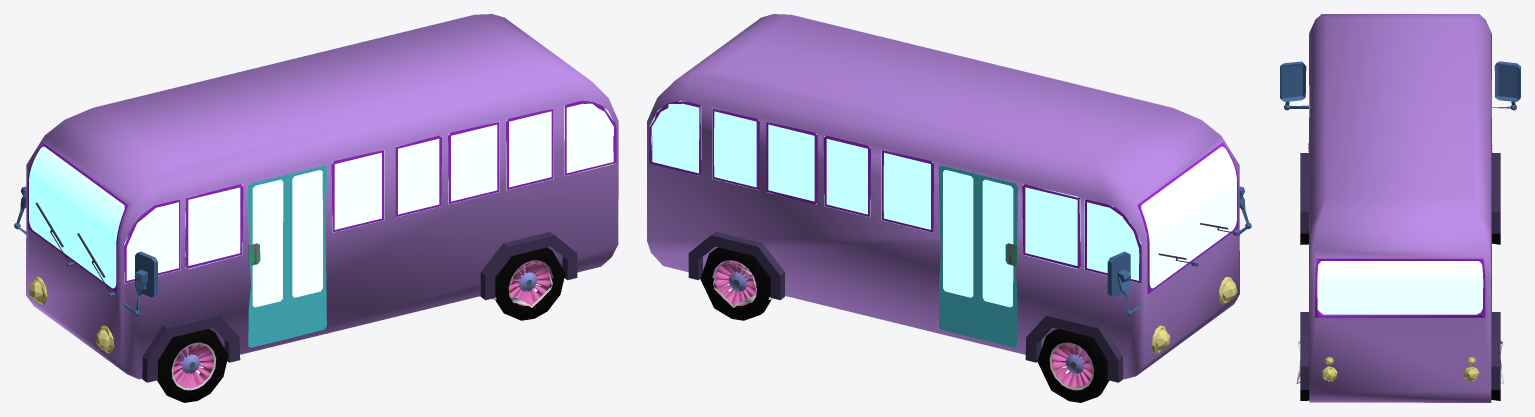
The model's file is Bus.fbx.
3 renders of one model, left to right at view 1: azimuth 30°, elevation 25°; view 2: azimuth 150°, elevation 25°; view 3: azimuth 270°, elevation 25°, orthographic. The views are drawn at different scales.
Visible parts, largest first — view 1: Body, Glass_Side, Glass_Front, Door_Glass, Door, Glass_Side_Border, Fender, 车轮胎, 后车轮胎, RearviewMirror, 前车轮, 后车轮叶子 (+2 smaller); view 2: Body, Glass_Side, Glass_Front, Door_Glass, Door, Glass_Side_Border, Fender, 车轮胎, 后车轮胎, RearviewMirror, 前车轮, 后车轮叶子 (+2 smaller); view 3: Body, Glass_Back, Fender, RearviewMirror, Glass_Back_Border, Glass_Side_Border, RearLamp_Down.
Boxes of the visible parts, left/top/right/bottom form: Body: left=26, top=14, right=618, bottom=379; Glass_Side: left=124, top=100, right=615, bottom=283; Glass_Front: left=29, top=146, right=124, bottom=288; Door_Glass: left=252, top=170, right=322, bottom=307; Door: left=248, top=165, right=326, bottom=347; Glass_Side_Border: left=124, top=101, right=616, bottom=283; Fender: left=142, top=232, right=577, bottom=382; 车轮胎: left=157, top=328, right=228, bottom=402; 后车轮胎: left=495, top=247, right=565, bottom=320; RearviewMirror: left=14, top=186, right=157, bottom=316; 前车轮: left=173, top=342, right=213, bottom=387; 后车轮叶子: left=508, top=260, right=550, bottom=305; Body: left=647, top=14, right=1239, bottom=379; Glass_Side: left=649, top=100, right=1141, bottom=283; Glass_Front: left=1141, top=146, right=1236, bottom=288; Door_Glass: left=943, top=170, right=1013, bottom=307; Door: left=938, top=165, right=1017, bottom=347; Glass_Side_Border: left=649, top=100, right=1141, bottom=283; Fender: left=688, top=232, right=1123, bottom=382; 车轮胎: left=1037, top=329, right=1109, bottom=402; 后车轮胎: left=700, top=247, right=771, bottom=320; RearviewMirror: left=1107, top=186, right=1251, bottom=316; 前车轮: left=1052, top=342, right=1092, bottom=387; 后车轮叶子: left=715, top=260, right=756, bottom=305; Body: left=1309, top=14, right=1491, bottom=402; Glass_Back: left=1317, top=261, right=1483, bottom=314; Fender: left=1300, top=153, right=1500, bottom=389; RearviewMirror: left=1280, top=61, right=1520, bottom=110; Glass_Back_Border: left=1315, top=258, right=1485, bottom=317; Glass_Side_Border: left=1309, top=33, right=1491, bottom=313; RearLamp_Down: left=1321, top=366, right=1479, bottom=381.
Bounding box in the file's own units: 619 × 265 × 265.
